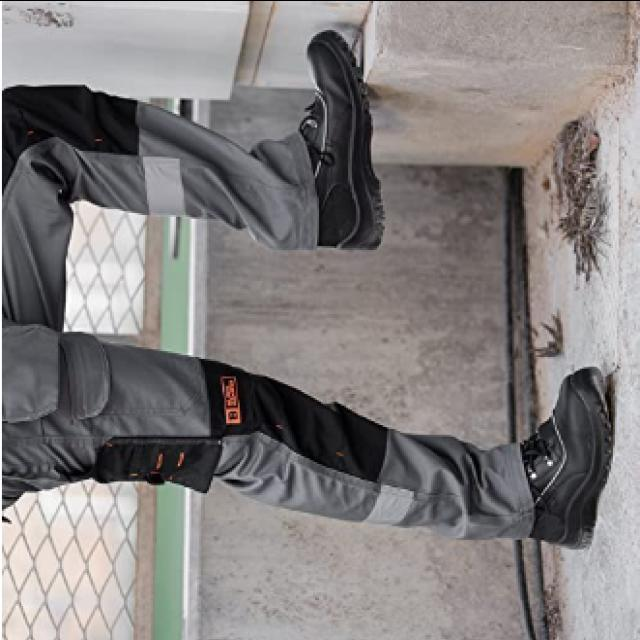boots: (245, 27, 617, 552)
